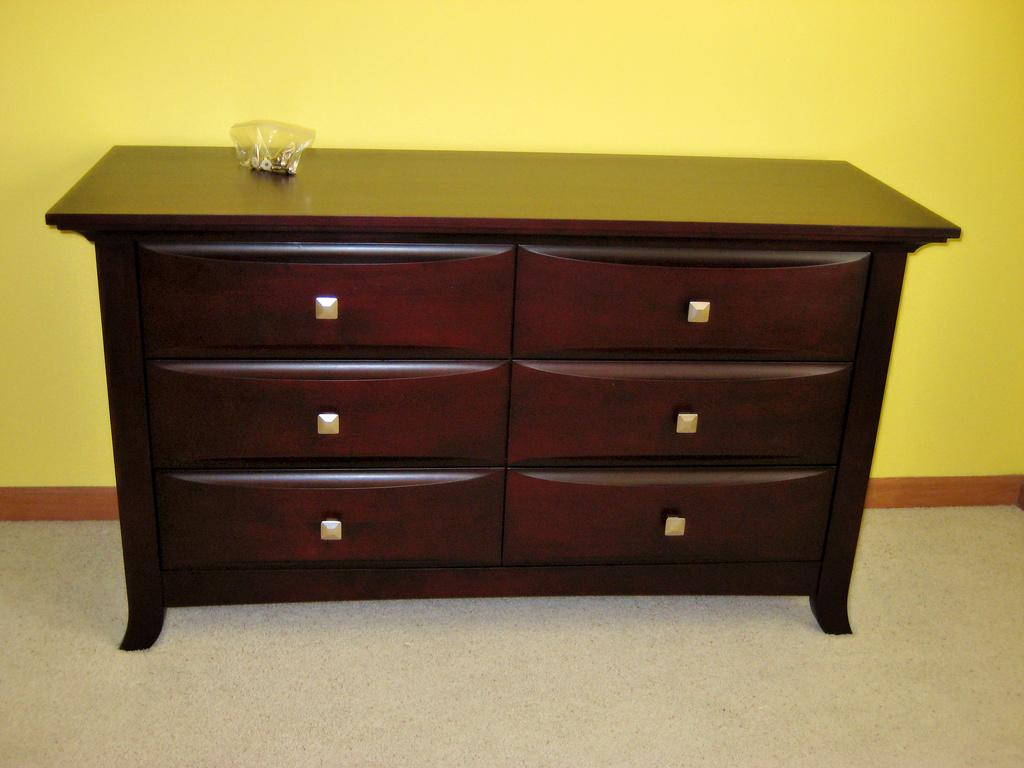cabinet_door: (146, 244, 504, 358), (153, 359, 503, 469), (509, 357, 844, 463), (520, 251, 863, 352), (162, 470, 502, 566), (510, 469, 824, 566)
handle: (310, 288, 344, 330), (316, 511, 346, 546), (684, 296, 715, 328), (670, 408, 702, 438), (659, 514, 689, 541), (312, 410, 343, 436)
